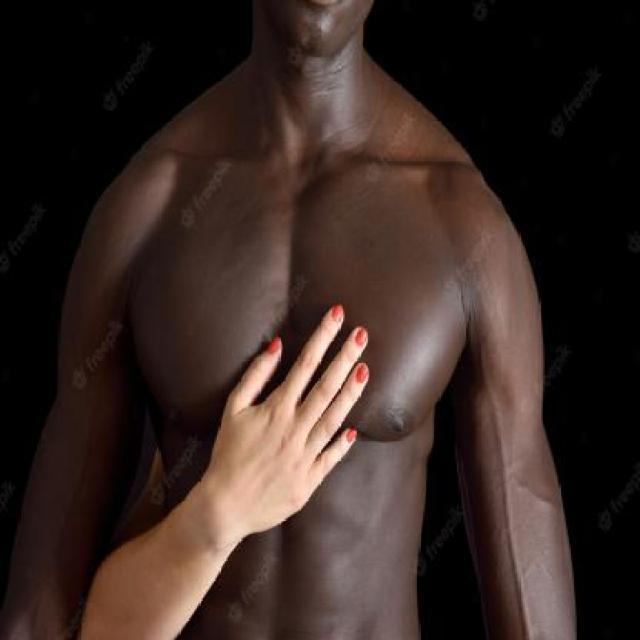no_apron: (216, 304, 372, 520)
